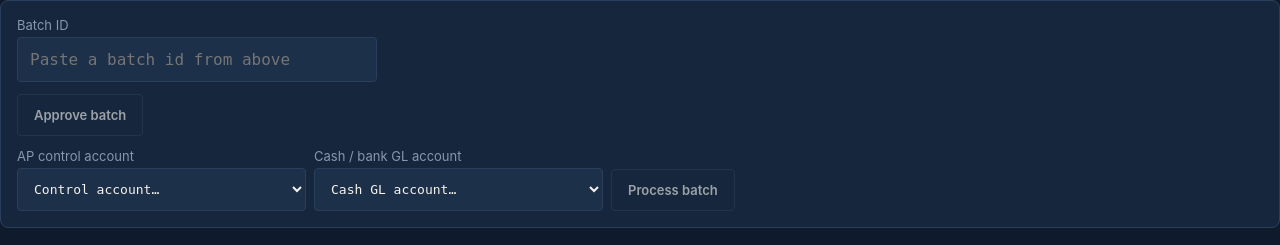
Test case: PaymentBatchActions — approve › shows the returned error message on failure (e.g. the maker-checker guard)
Type "batch-1" into the field labelled "Batch ID" at (197, 60), box top-left (17, 37), bottom-right (377, 82)
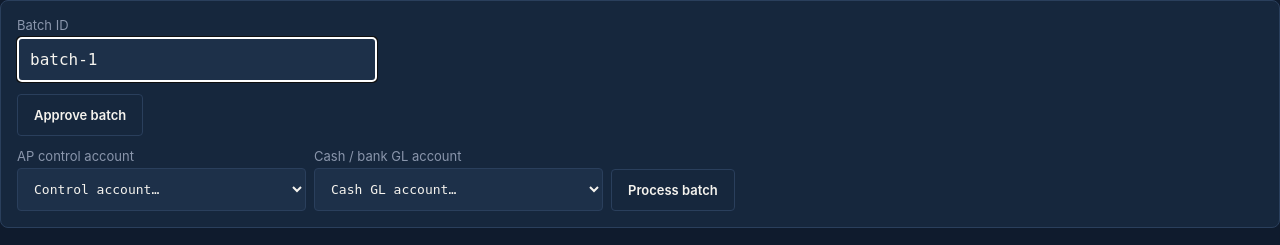
Click the button "Approve batch" at (80, 115), box top-left (17, 94), bottom-right (143, 136)
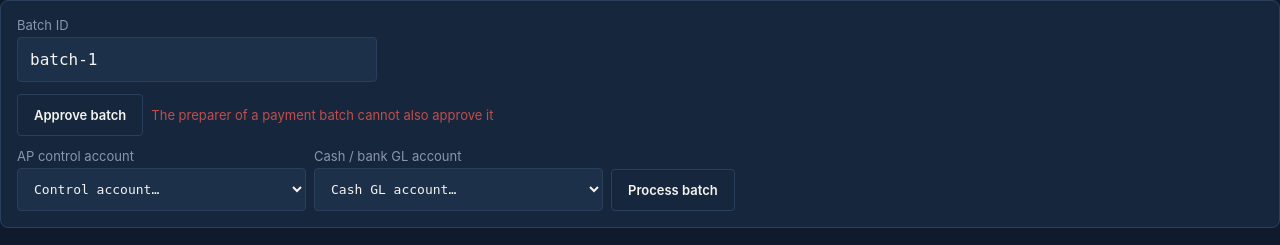
Result: the text "The preparer of a payment batch cannot also approve it" is shown at top-left (151, 107), bottom-right (493, 123)
